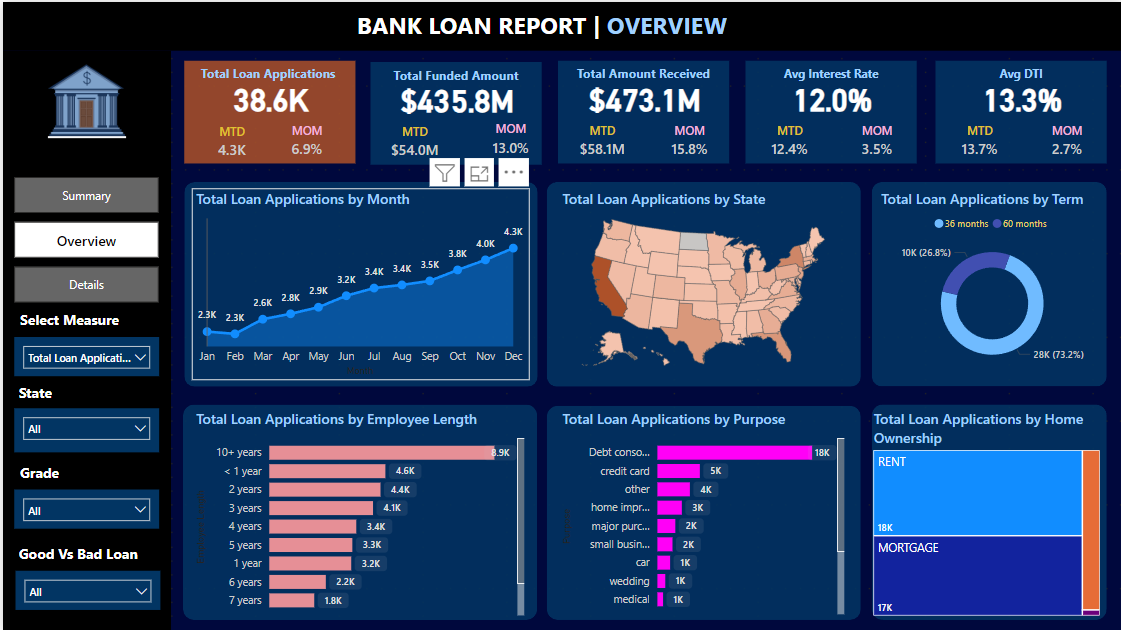

What the dashboard file says about the page in this screenshot:
{"tool":"powerbi","page":{"name":"Overview","canvas":[1280,720],"ordinal":1},"visuals":[{"type":"shape","box":[634.8,66.7,195.7,117.4],"z":0,"group":"g6"},{"type":"shape","box":[849.3,66.7,195.7,117.4],"z":0,"group":"g7"},{"type":"shape","box":[1065.2,66.7,195.7,117.4],"z":0,"group":"g8"},{"type":"shape","box":[207.2,205.8,404,234],"z":0},{"type":"shape","box":[0,0,1280,55.7],"z":1000},{"type":"card","fields":{"Values":["bank_loan_data.Total Amount Received"]},"box":[636.2,82.6,195.7,53.6],"z":1000,"group":"g6"},{"type":"card","fields":{"Values":["bank_loan_data.Avg Interest Rate"]},"box":[850.7,82.6,195.7,53.6],"z":1000,"group":"g7"},{"type":"card","fields":{"Values":["bank_loan_data.Avg DTI"]},"box":[1066.6,82.6,195.7,53.6],"z":1000,"group":"g8"},{"type":"shape","box":[0,55.4,192,665],"z":2000},{"type":"shape","box":[207.2,66.7,195.7,117.4],"z":2000,"group":"g1"},{"type":"textbox","box":[634.8,66.7,195.7,30.4],"z":2000,"group":"g6"},{"type":"textbox","box":[849.3,66.7,195.7,30.4],"z":2000,"group":"g7"},{"type":"textbox","box":[1065.2,66.7,195.7,30.4],"z":2000,"group":"g8"},{"type":"shape","box":[420.3,68.1,195.7,117.4],"z":2000,"group":"g5"},{"type":"textbox","box":[392,2.7,449.3,52],"z":3000},{"type":"card","title":"MTD","fields":{"Values":["bank_loan_data.MTD Total Amount Received"]},"box":[647.8,136.3,75.4,47.8],"z":3000,"group":"g6"},{"type":"card","title":"MTD","fields":{"Values":["bank_loan_data.MTD Avg Int Rate"]},"box":[862.3,136.3,75.4,47.8],"z":3000,"group":"g7"},{"type":"card","title":"MTD","fields":{"Values":["bank_loan_data.MTD Averge DTI"]},"box":[1078.2,136.3,75.4,47.8],"z":3000,"group":"g8"},{"type":"group","id":"g1","title":"Group 1","box":[207.2,66.7,197.1,118.8],"z":4000},{"type":"card","fields":{"Values":["bank_loan_data.Toal Loan Applications"]},"box":[208.6,82.6,195.7,53.6],"z":4000,"group":"g1"},{"type":"card","fields":{"Values":["bank_loan_data.Total Funded Amount"]},"box":[421.7,84,195.7,53.6],"z":4000,"group":"g5"},{"type":"group","id":"g2","title":"Group 1","box":[758.8,136.7,52.2,47.8],"z":4000,"group":"g6"},{"type":"group","id":"g3","title":"Group 1","box":[973.3,136.7,52.2,47.8],"z":4000,"group":"g7"},{"type":"group","id":"g4","title":"Group 1","box":[1189.2,136.7,52.2,47.8],"z":4000,"group":"g8"},{"type":"textbox","box":[207.2,66.7,195.7,30.4],"z":5000,"group":"g1"},{"type":"group","id":"g5","title":"Group 2","box":[420.3,68.1,197.1,117.4],"z":5000},{"type":"textbox","box":[420.3,68.1,195.7,30.4],"z":5000,"group":"g5"},{"type":"group","id":"g6","title":"Group 3","box":[634.8,66.7,197.1,117.4],"z":6000},{"type":"card","title":"MTD","fields":{"Values":["bank_loan_data.MTD Loan Aplications"]},"box":[237.6,137.7,49.3,47.8],"z":6000,"group":"g1"},{"type":"card","title":"MTD","fields":{"Values":["bank_loan_data.MTD Funded Amount"]},"box":[433.3,137.7,75.4,47.8],"z":6000,"group":"g5"},{"type":"group","id":"g7","title":"Group 3","box":[849.3,66.7,197.1,117.4],"z":7000},{"type":"card","title":"MOM","fields":{"Values":["bank_loan_data.MOM Loan Applications"]},"box":[323.1,136.3,49.3,47.8],"z":7000,"group":"g1"},{"type":"card","title":"MOM","fields":{"Values":["bank_loan_data.MOM Total Amount Received"]},"box":[758.8,136.7,52.2,47.8],"z":7000,"group":"g2"},{"type":"card","title":"MOM","fields":{"Values":["bank_loan_data.MOM Avg Int Rate"]},"box":[973.3,136.7,52.2,47.8],"z":7000,"group":"g3"},{"type":"card","title":"MOM","fields":{"Values":["bank_loan_data.MOM Avg DTI"]},"box":[1189.2,136.7,52.2,47.8],"z":7000,"group":"g4"},{"type":"card","title":"MOM","fields":{"Values":["bank_loan_data.MOM Total Funded Amount"]},"box":[553.6,136.2,52.2,47.8],"z":8000},{"type":"group","id":"g8","title":"Group 3","box":[1065.2,66.7,197.1,117.4],"z":9000},{"type":"slicer","fields":{"Values":["bank_loan_data.address_state"]},"box":[12.5,464.7,165.6,50.1],"z":10000},{"type":"textbox","box":[12.5,429.9,64,34.8],"z":11000},{"type":"slicer","fields":{"Values":["bank_loan_data.grade"]},"box":[12.5,556.5,165.6,44.5],"z":12000},{"type":"textbox","box":[13.9,521.7,83.5,34.8],"z":13000},{"type":"slicer","fields":{"Values":["bank_loan_data.Good vs Bad Loan"]},"box":[13.9,649.7,165.6,44.5],"z":14000},{"type":"textbox","box":[12.5,615,165.6,34.8],"z":15000},{"type":"areaChart","fields":{"Y":["bank_loan_data.Total Loan Applications"],"Category":["Date Table.Month"]},"box":[215.7,212.9,385.4,219.8],"z":16000},{"type":"slicer","fields":{"Values":["Select Measure .Select Measure "]},"box":[12.5,382.6,165.6,44.5],"z":17000},{"type":"textbox","box":[13.9,347.8,139.1,34.8],"z":18000},{"type":"shape","box":[621.9,205.9,359,234],"z":19000},{"type":"shapeMap","fields":{"Value":["bank_loan_data.Total Loan Applications"],"Category":["bank_loan_data.address_state"]},"box":[634.4,212.9,332.5,217],"z":20000},{"type":"shape","box":[993.4,205.9,268.5,233.7],"z":21000},{"type":"donutChart","fields":{"Y":["bank_loan_data.Total Loan Applications"],"Category":["bank_loan_data.term"]},"box":[999,212.9,264.3,214.3],"z":22000},{"type":"shape","box":[205.9,460.5,404.9,246.3],"z":23000},{"type":"barChart","fields":{"Y":["bank_loan_data.Total Loan Applications"],"Category":["bank_loan_data.emp_length"]},"box":[215.7,464.7,385.4,242.1],"z":24000},{"type":"shape","box":[621.9,461.9,359,244.9],"z":25000},{"type":"barChart","fields":{"Y":["bank_loan_data.Total Loan Applications"],"Category":["bank_loan_data.purpose"]},"box":[634.4,464.7,332.5,240.7],"z":26000},{"type":"shape","box":[993.4,460.5,268.5,246.3],"z":27000},{"type":"treemap","fields":{"Values":["bank_loan_data.Total Loan Applications"],"Group":["bank_loan_data.home_ownership"]},"box":[989.5,464.7,268.5,242.1],"z":28000},{"type":"pageNavigator","box":[12.5,200.3,165.6,144.7],"z":29000},{"type":"image","box":[0,55.7,192,115.5],"z":30000}]}

Visuals, with their boxes in screenshot pixels (x1, y1, x2, y2), scaled from the page's 1280x720 canvas onto the 1121x630 screenshot:
shape: select_region(556, 58, 727, 161)
shape: select_region(744, 58, 915, 161)
shape: select_region(933, 58, 1104, 161)
shape: select_region(181, 180, 535, 385)
shape: select_region(0, 0, 1120, 49)
card - bank_loan_data.Total Amount Received: select_region(557, 72, 729, 119)
card - bank_loan_data.Avg Interest Rate: select_region(745, 72, 916, 119)
card - bank_loan_data.Avg DTI: select_region(934, 72, 1105, 119)
shape: select_region(0, 48, 168, 629)
shape: select_region(181, 58, 353, 161)
textbox: select_region(556, 58, 727, 85)
textbox: select_region(744, 58, 915, 85)
textbox: select_region(933, 58, 1104, 85)
shape: select_region(368, 60, 539, 162)
textbox: select_region(343, 2, 737, 48)
"MTD" card: select_region(567, 119, 633, 161)
"MTD" card: select_region(755, 119, 821, 161)
"MTD" card: select_region(944, 119, 1010, 161)
"Group 1" group: select_region(181, 58, 354, 162)
card - bank_loan_data.Toal Loan Applications: select_region(183, 72, 354, 119)
card - bank_loan_data.Total Funded Amount: select_region(369, 74, 541, 120)
"Group 1" group: select_region(665, 120, 710, 161)
"Group 1" group: select_region(852, 120, 898, 161)
"Group 1" group: select_region(1041, 120, 1087, 161)
textbox: select_region(181, 58, 353, 85)
"Group 2" group: select_region(368, 60, 541, 162)
textbox: select_region(368, 60, 539, 86)
"Group 3" group: select_region(556, 58, 729, 161)
"MTD" card: select_region(208, 120, 251, 162)
"MTD" card: select_region(379, 120, 446, 162)
"Group 3" group: select_region(744, 58, 916, 161)
"MOM" card: select_region(283, 119, 326, 161)
"MOM" card: select_region(665, 120, 710, 161)
"MOM" card: select_region(852, 120, 898, 161)
"MOM" card: select_region(1041, 120, 1087, 161)
"MOM" card: select_region(485, 119, 531, 161)
"Group 3" group: select_region(933, 58, 1105, 161)
slicer - bank_loan_data.address_state: select_region(11, 407, 156, 450)
textbox: select_region(11, 376, 67, 407)
slicer - bank_loan_data.grade: select_region(11, 487, 156, 526)
textbox: select_region(12, 456, 85, 487)
slicer - bank_loan_data.Good vs Bad Loan: select_region(12, 568, 157, 607)
textbox: select_region(11, 538, 156, 569)
areaChart - bank_loan_data.Total Loan Applications x Date Table.Month: select_region(189, 186, 526, 379)
slicer - Select Measure .Select Measure : select_region(11, 335, 156, 374)
textbox: select_region(12, 304, 134, 335)
shape: select_region(545, 180, 859, 385)
shapeMap - bank_loan_data.Total Loan Applications x bank_loan_data.address_state: select_region(556, 186, 847, 376)
shape: select_region(870, 180, 1105, 385)
donutChart - bank_loan_data.Total Loan Applications x bank_loan_data.term: select_region(875, 186, 1106, 374)
shape: select_region(180, 403, 535, 618)
barChart - bank_loan_data.Total Loan Applications x bank_loan_data.emp_length: select_region(189, 407, 526, 618)
shape: select_region(545, 404, 859, 618)
barChart - bank_loan_data.Total Loan Applications x bank_loan_data.purpose: select_region(556, 407, 847, 617)
shape: select_region(870, 403, 1105, 618)
treemap - bank_loan_data.Total Loan Applications x bank_loan_data.home_ownership: select_region(867, 407, 1102, 618)
pageNavigator: select_region(11, 175, 156, 302)
image: select_region(0, 49, 168, 150)
